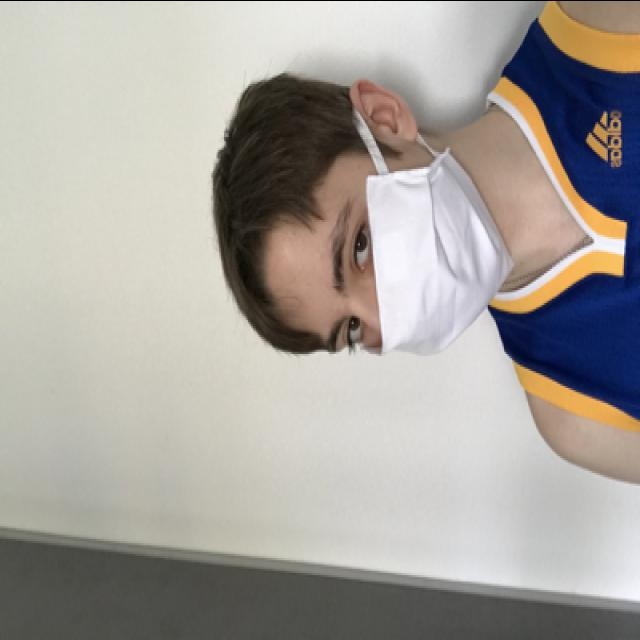with_mask: (314, 149, 514, 357)
